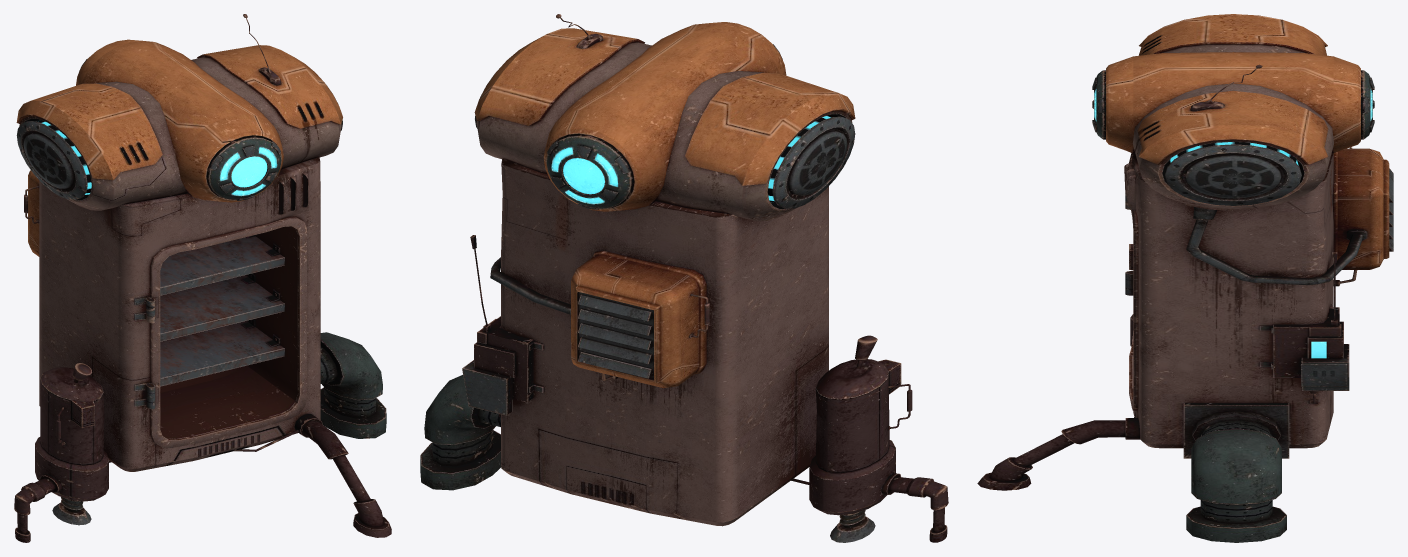
The model's file is shelf.glb.
3 views of the same model, side by side, from view 1: azimuth 30°, elevation 25°; view 2: azimuth 150°, elevation 25°; view 3: azimuth 270°, elevation 25° (orthographic). The views are drawn at different scales.
Parts seen in each view (by area): view 1: Object_4; view 2: Object_4; view 3: Object_4.
Part boxes in pixels (x1=…): Object_4: x1=14, y1=14, x2=391, y2=542; Object_4: x1=420, y1=14, x2=948, y2=542; Object_4: x1=977, y1=14, x2=1393, y2=542.
Bounding box in the file's own units: 2 × 2 × 1.8.
3 materials, 3 textured.
